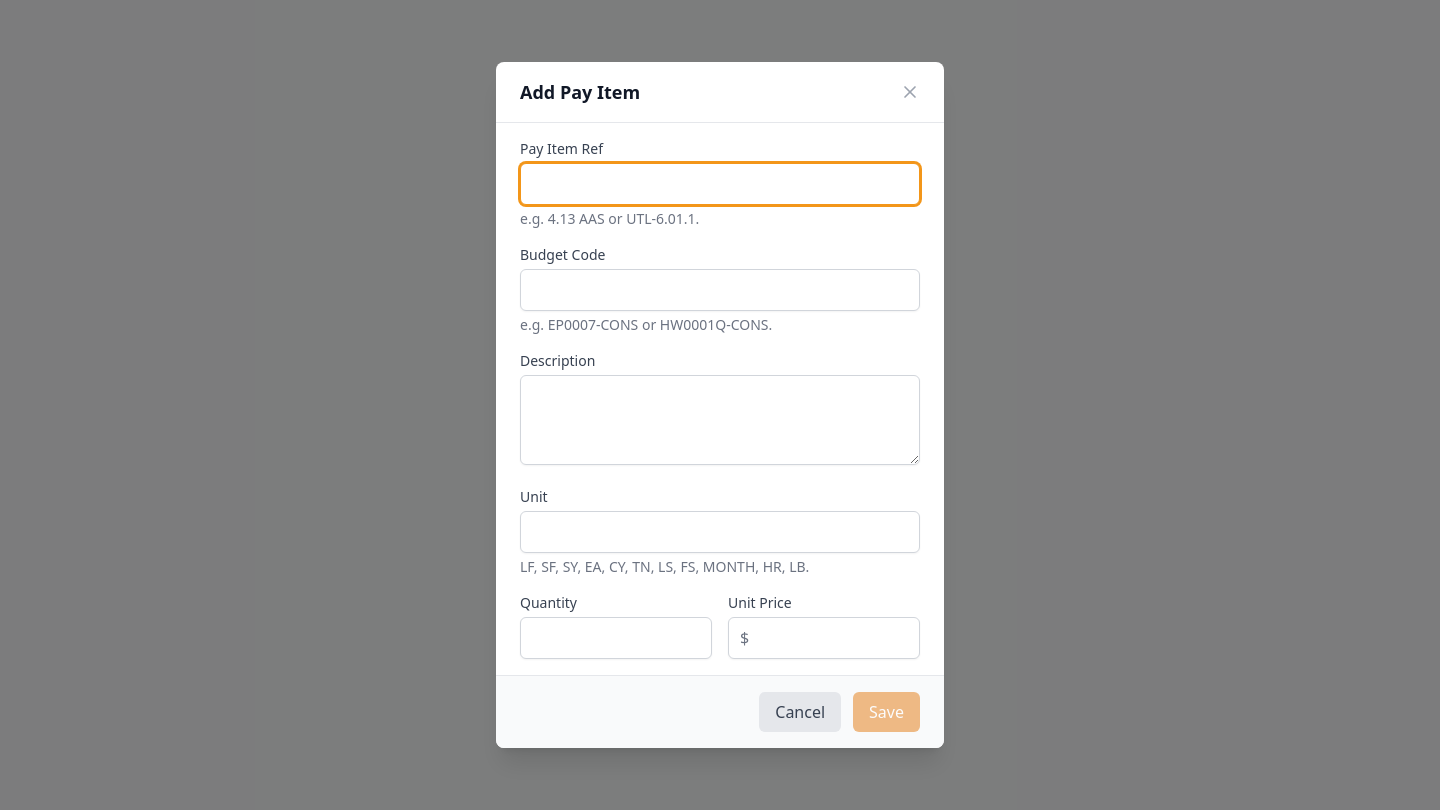
Test: PayItemFormModal — adding › turns Save on once all six are in, zero amounts included
Type "6.02" into the field labelled "Pay Item Ref".
click(720, 184); type("6.02")  # box [520, 163, 920, 205]
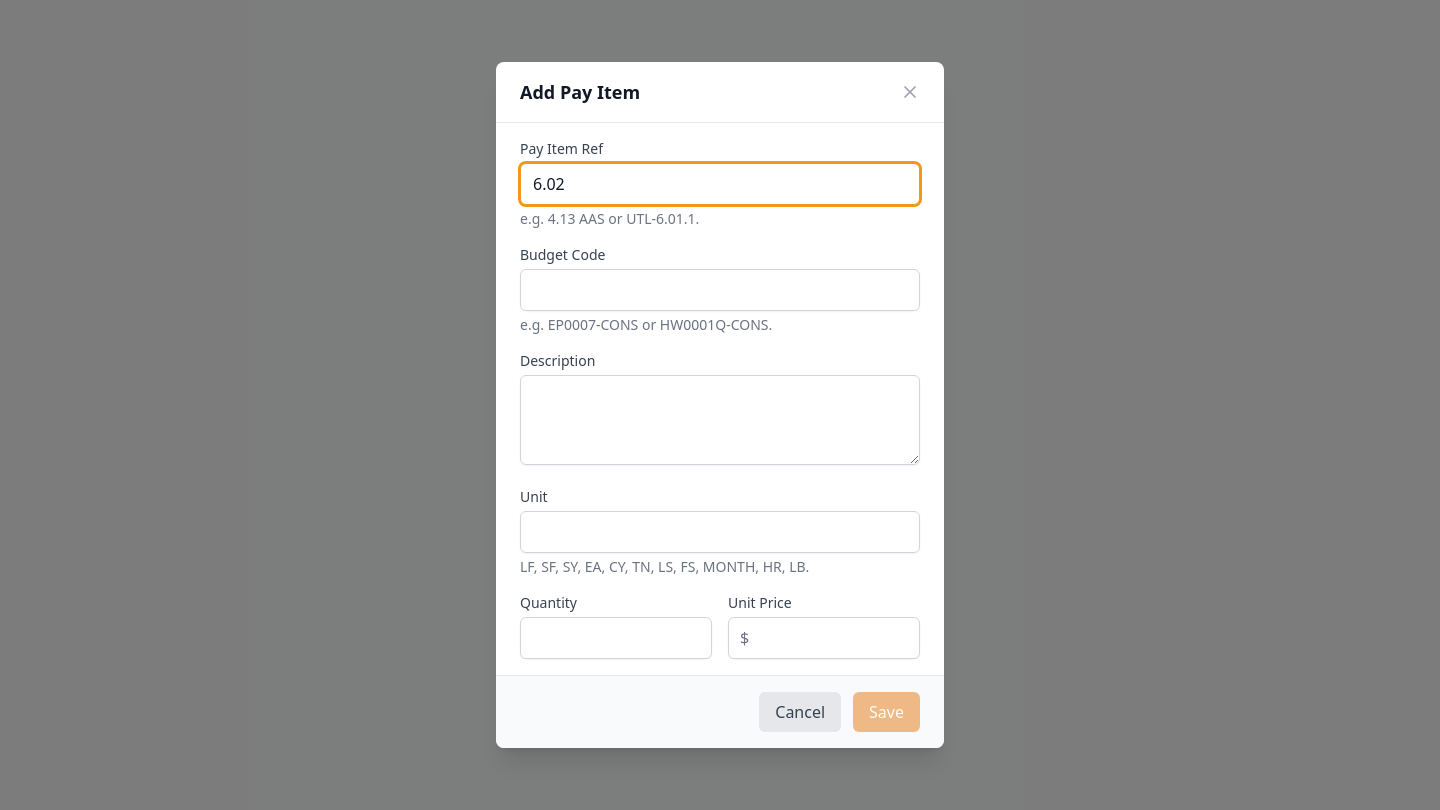
Type "EP0007-CONS" into the field labelled "Budget Code".
click(720, 290); type("EP0007-CONS")  # box [520, 269, 920, 311]
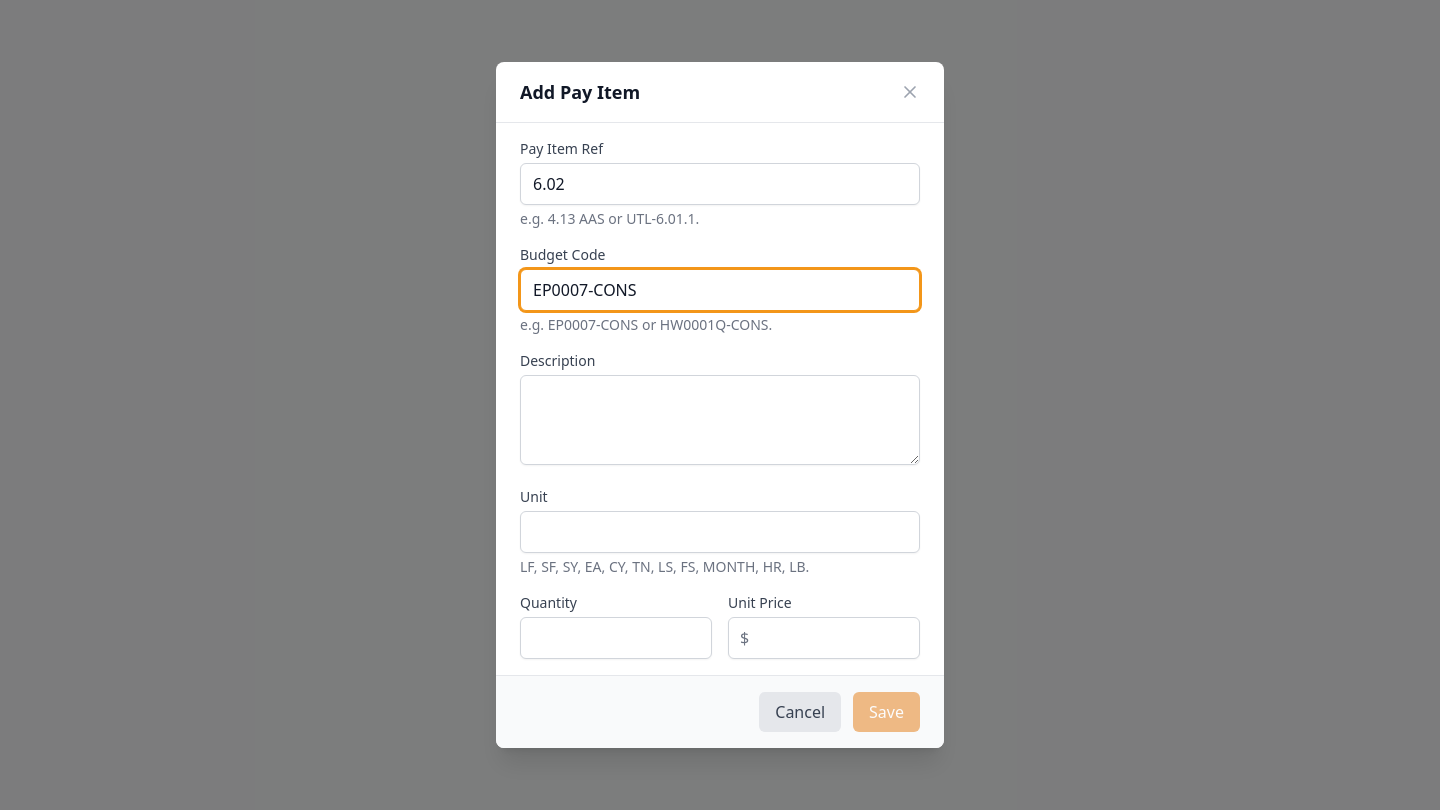
Type "Steel faced curb" into the text box labelled "Description".
click(720, 420); type("Steel faced curb")  # box [520, 375, 920, 465]
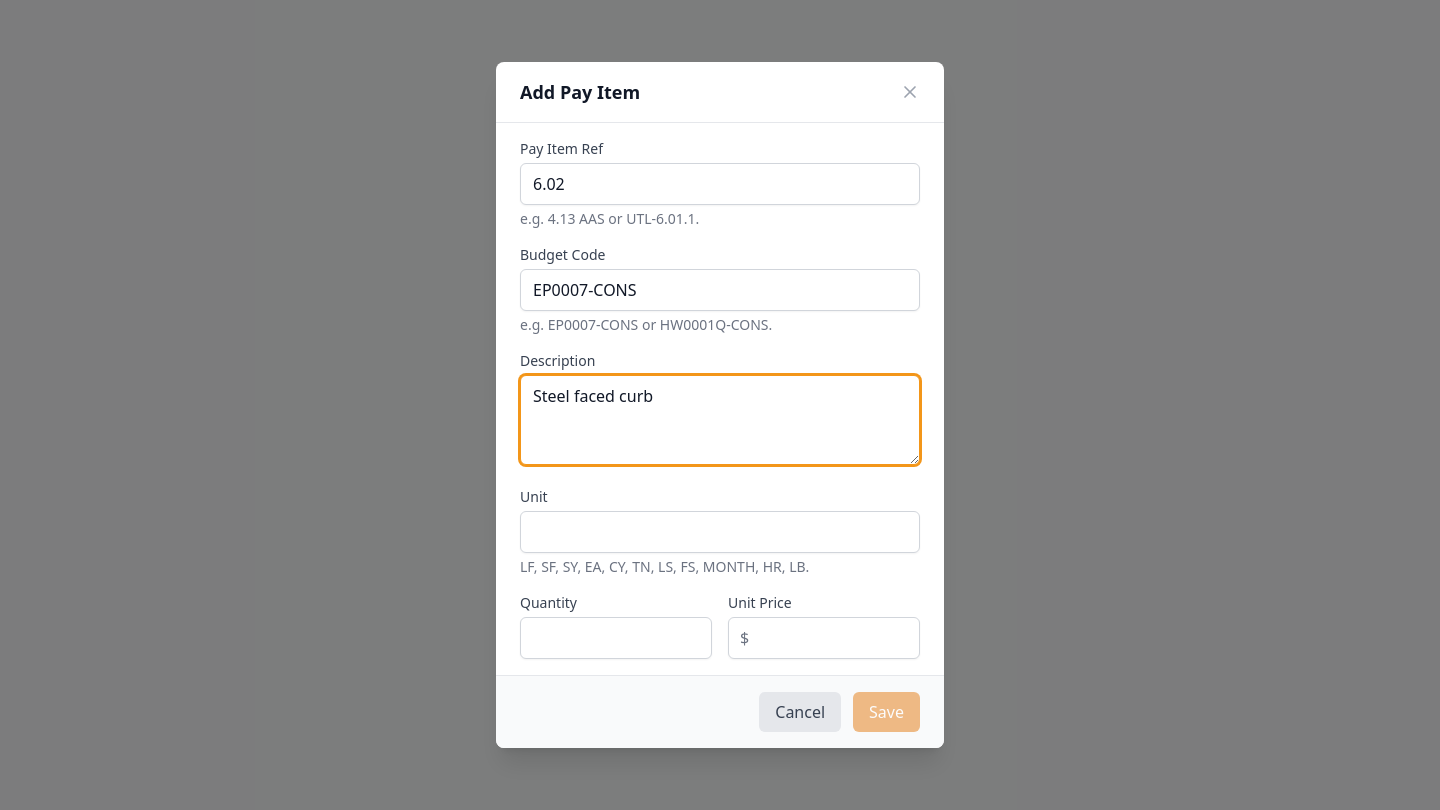
Type "LF" into the field labelled "Unit".
click(720, 532); type("LF")  # box [520, 511, 920, 553]
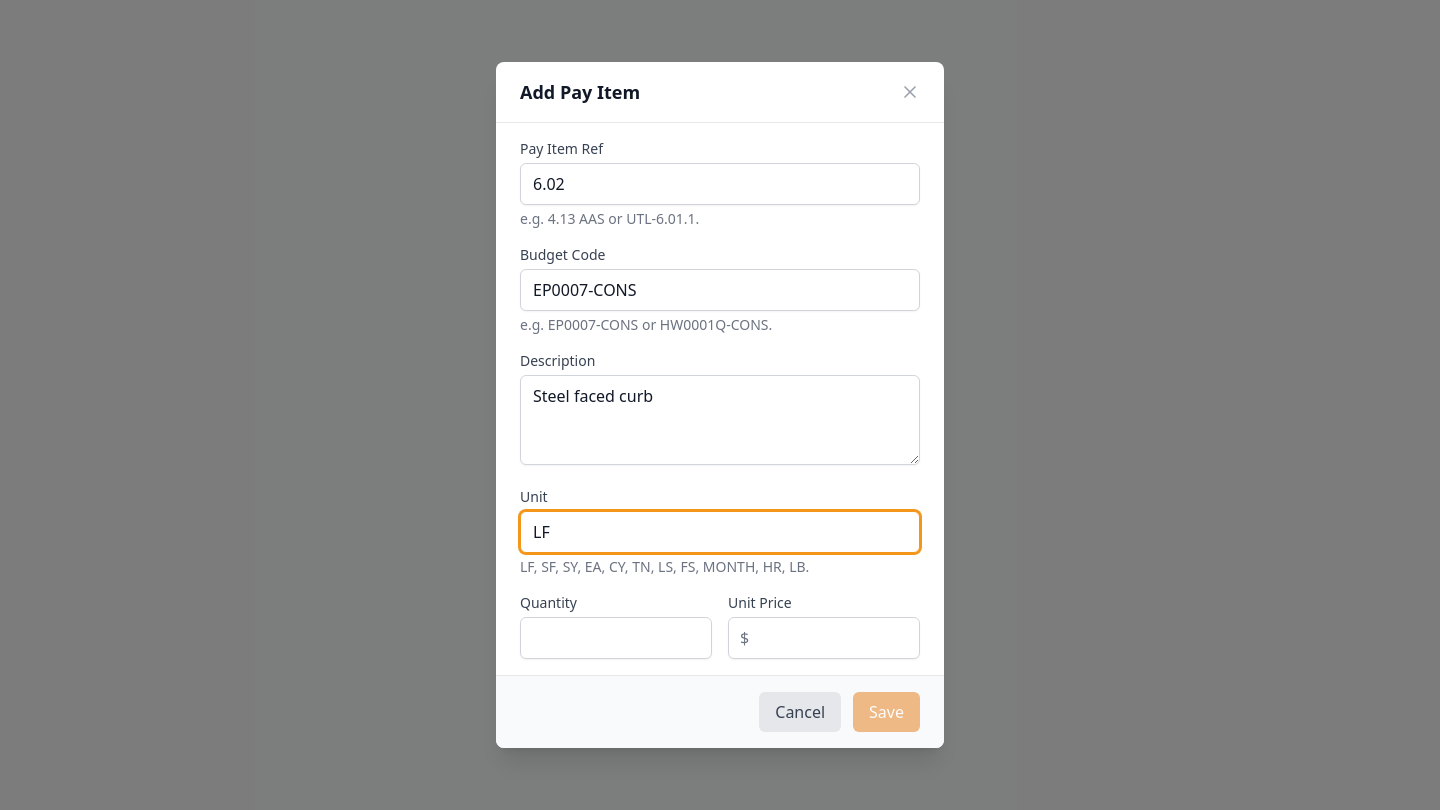
Type "0" into the number field labelled "Quantity".
click(616, 638); type("0")  # box [520, 617, 712, 659]
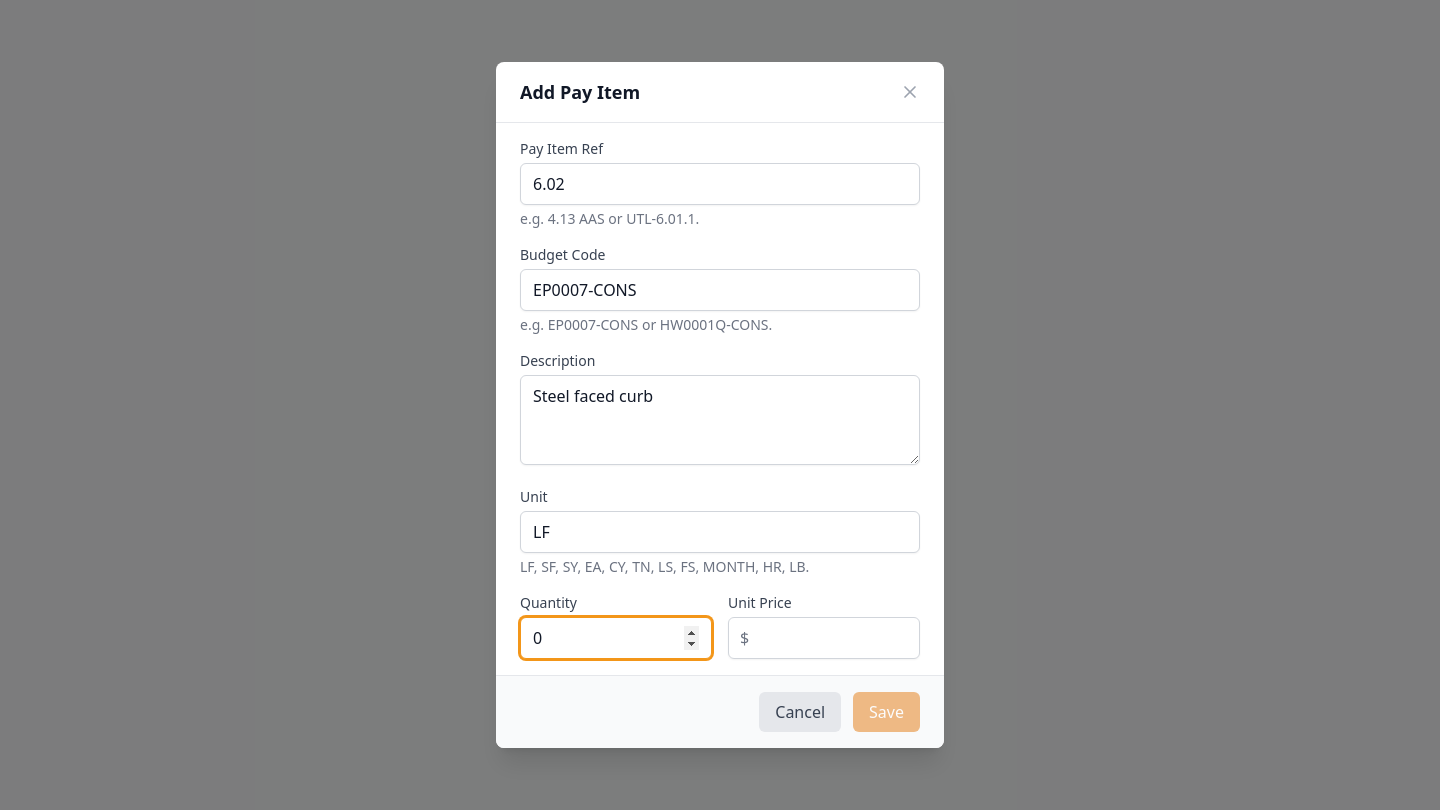
Type "0" into the number field labelled "Unit Price".
click(824, 638); type("0")  # box [728, 617, 920, 659]
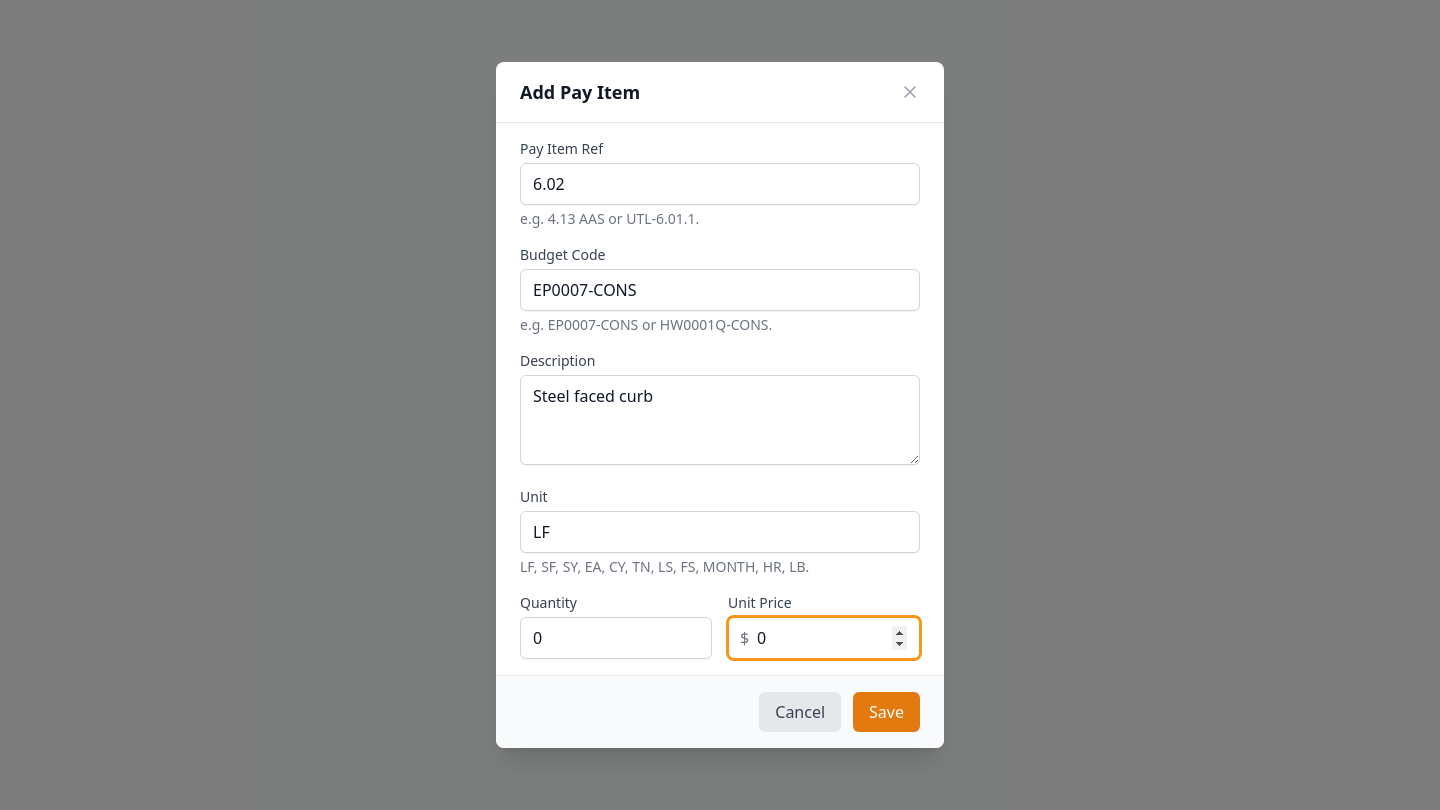
Now the button "Save" is enabled, box [853, 692, 920, 732]
